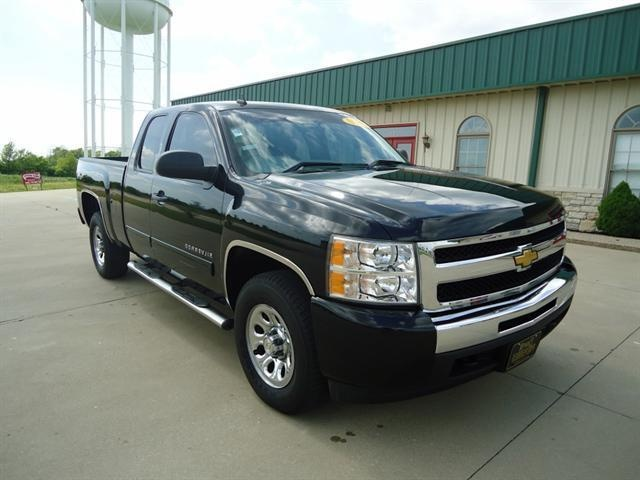car: (50, 90, 587, 422)
